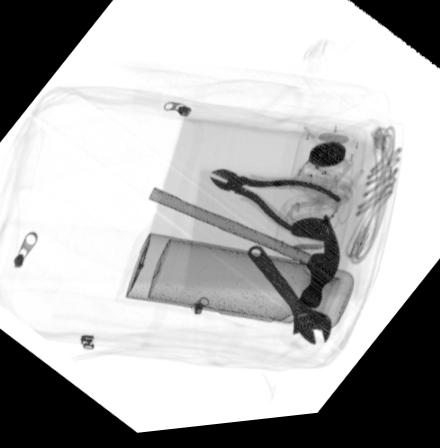Hammer: (144, 188, 339, 315)
Pliers: (206, 175, 342, 248)
Wrench: (248, 254, 333, 353)
